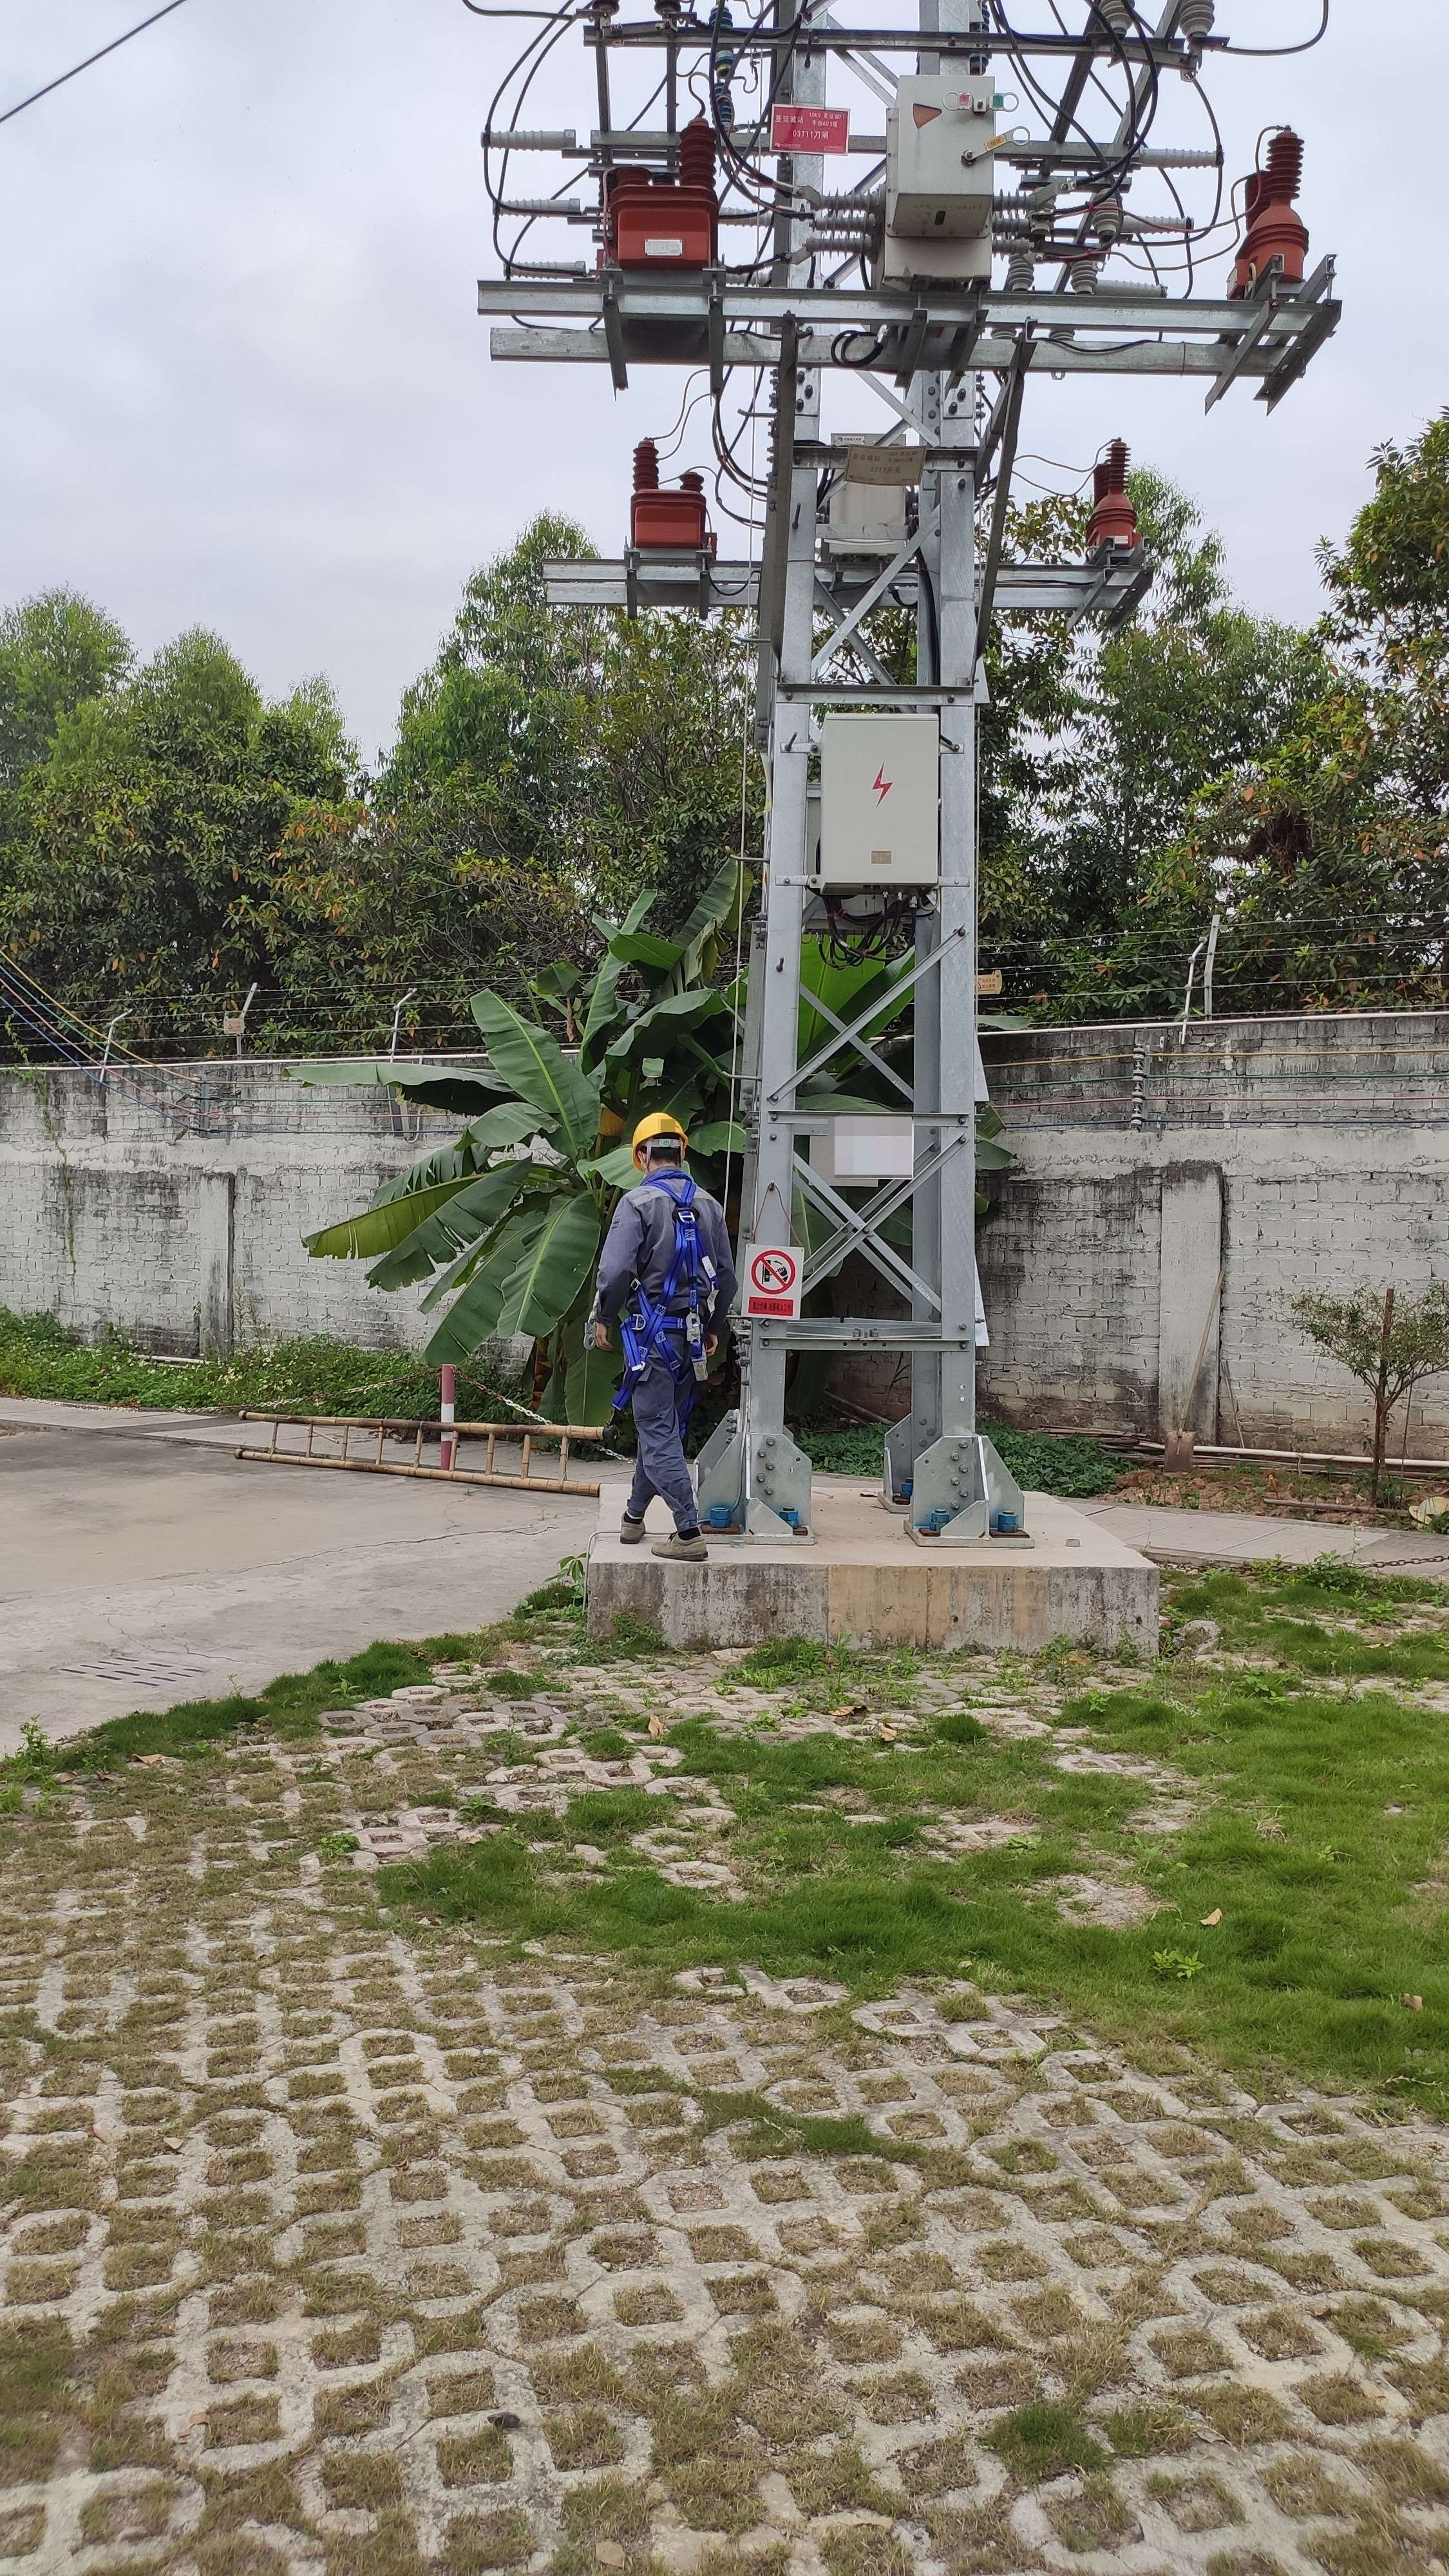downsuit: (630, 1338, 708, 1532)
upsuit: (610, 1178, 709, 1320)
